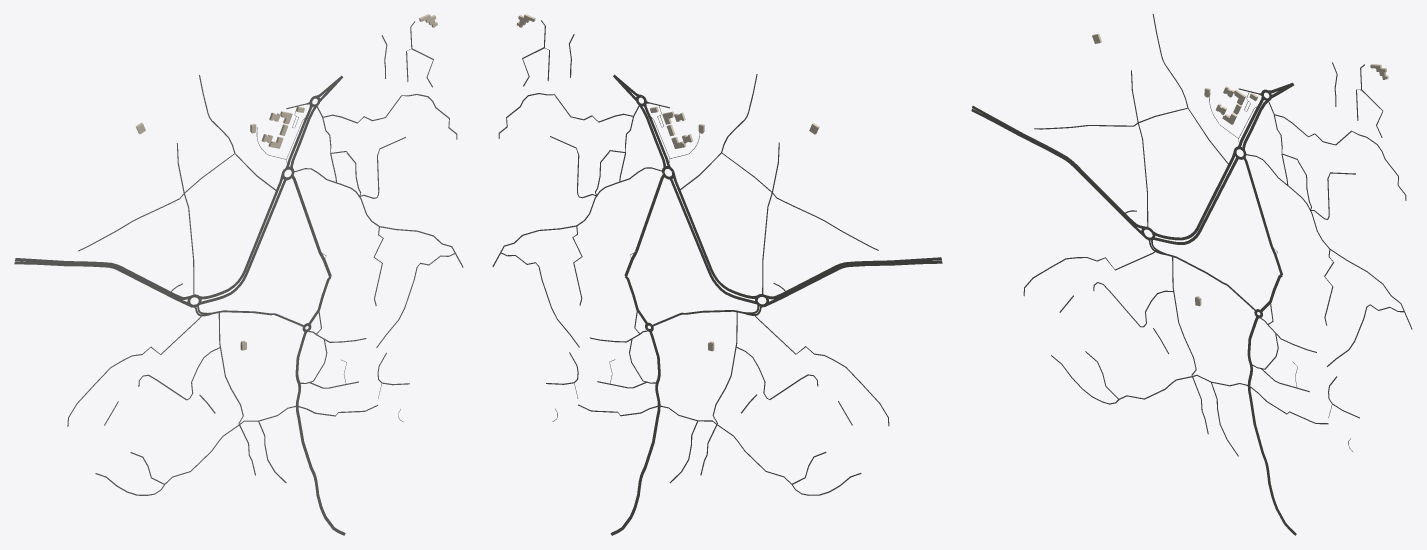
File: historic-palestine-11_34_3533_3285.glb
The picture shows the model from 3 angles, left to right: view 1: azimuth 30°, elevation 25°; view 2: azimuth 150°, elevation 25°; view 3: azimuth 330°, elevation 25°; orthographic projection. The views are drawn at different scales.
Visible parts, largest first — view 1: Road 804, Road طريق الجليل.001, Road طريق الجليل.002, Road .006; view 2: Road 804, Road طريق الجليل.002, Road طريق الجليل.001, Road .006; view 3: Road 804, Road طريق الجليل.001, Road طريق الجليل.002, Road .006.
Boxes of the visible parts, left/top/right/bottom form: Road 804: left=295, top=331, right=345, bottom=535; Road طريق الجليل.001: left=14, top=261, right=189, bottom=306; Road طريق الجليل.002: left=15, top=258, right=191, bottom=299; Road .006: left=95, top=405, right=377, bottom=495; Road 804: left=610, top=330, right=660, bottom=535; Road طريق الجليل.002: left=764, top=257, right=941, bottom=299; Road طريق الجليل.001: left=766, top=260, right=942, bottom=305; Road .006: left=578, top=404, right=861, bottom=495; Road 804: left=1247, top=316, right=1296, bottom=535; Road طريق الجليل.001: left=971, top=108, right=1144, bottom=236; Road طريق الجليل.002: left=972, top=106, right=1144, bottom=228; Road .006: left=1051, top=355, right=1328, bottom=424.
Size of the model in its own units: 1304 by 1386 by 8.7.
